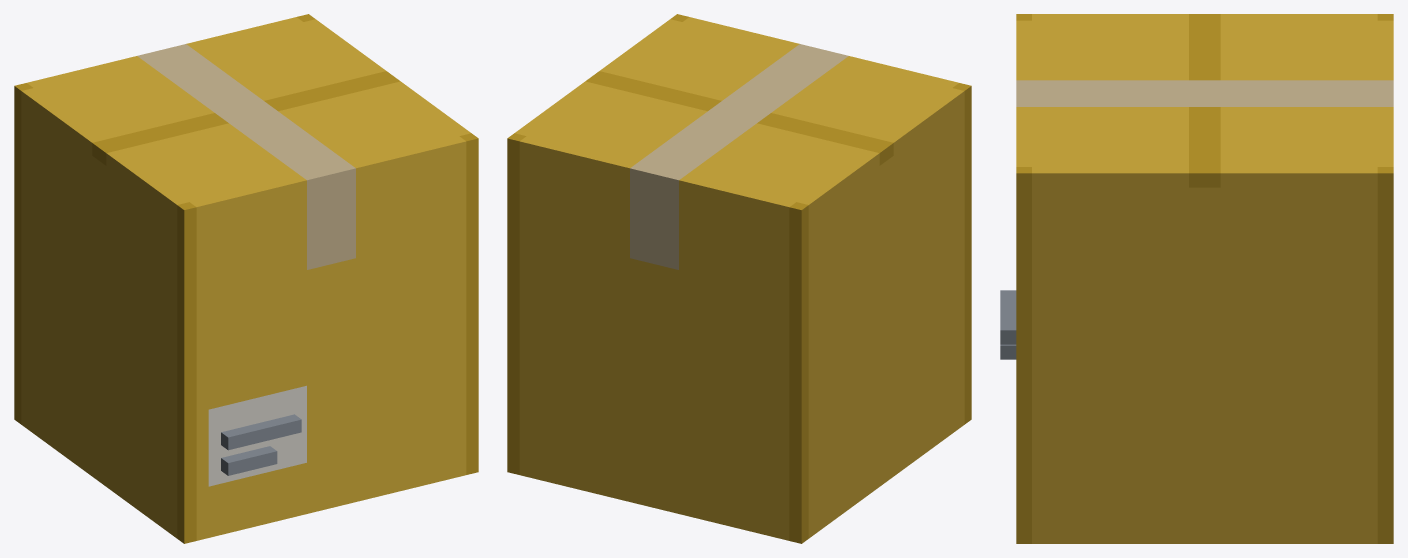
File: package-yellow.glb
The picture shows the model from 3 angles, left to right: view 1: azimuth 30°, elevation 25°; view 2: azimuth 150°, elevation 25°; view 3: azimuth 270°, elevation 25°; orthographic projection. The views are drawn at different scales.
Parts seen in each view (by area): view 1: prop; view 2: prop; view 3: prop.
Boxes of the visible parts, left/top/right/bottom form: prop: left=14, top=14, right=478, bottom=543; prop: left=507, top=14, right=971, bottom=543; prop: left=1000, top=14, right=1393, bottom=543.
Size of the model in its own units: 14.77 by 16 by 15.38.
